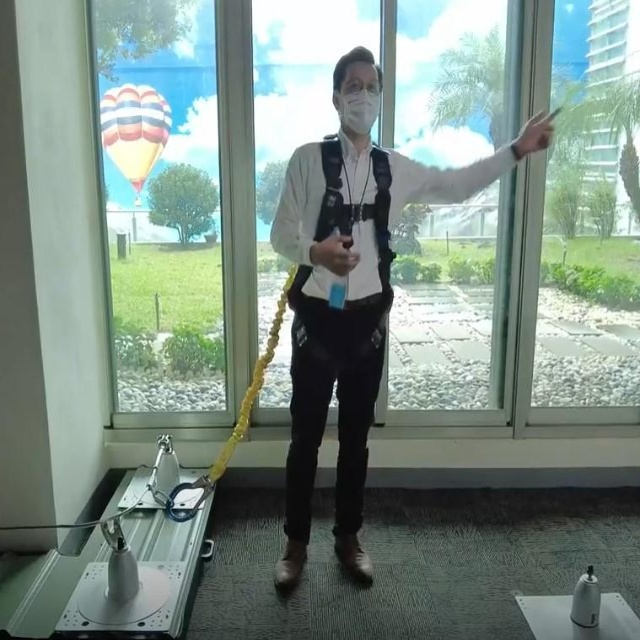Arnes_seguridad: (285, 136, 398, 370)
